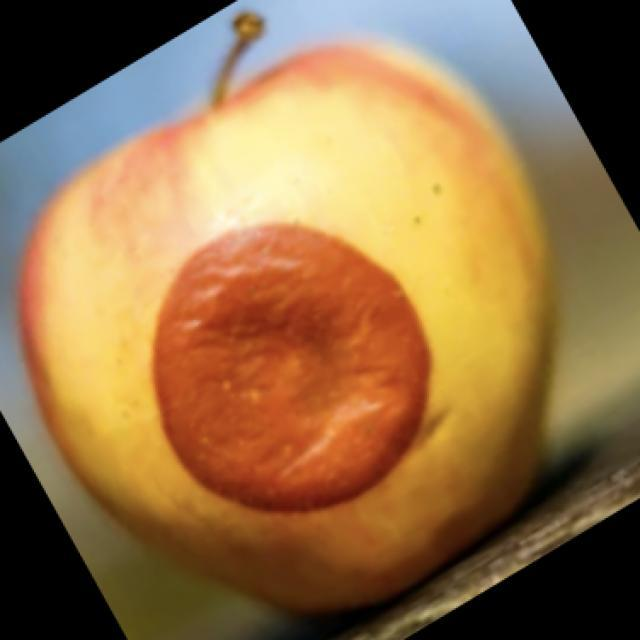Rotten: (15, 50, 563, 615)
